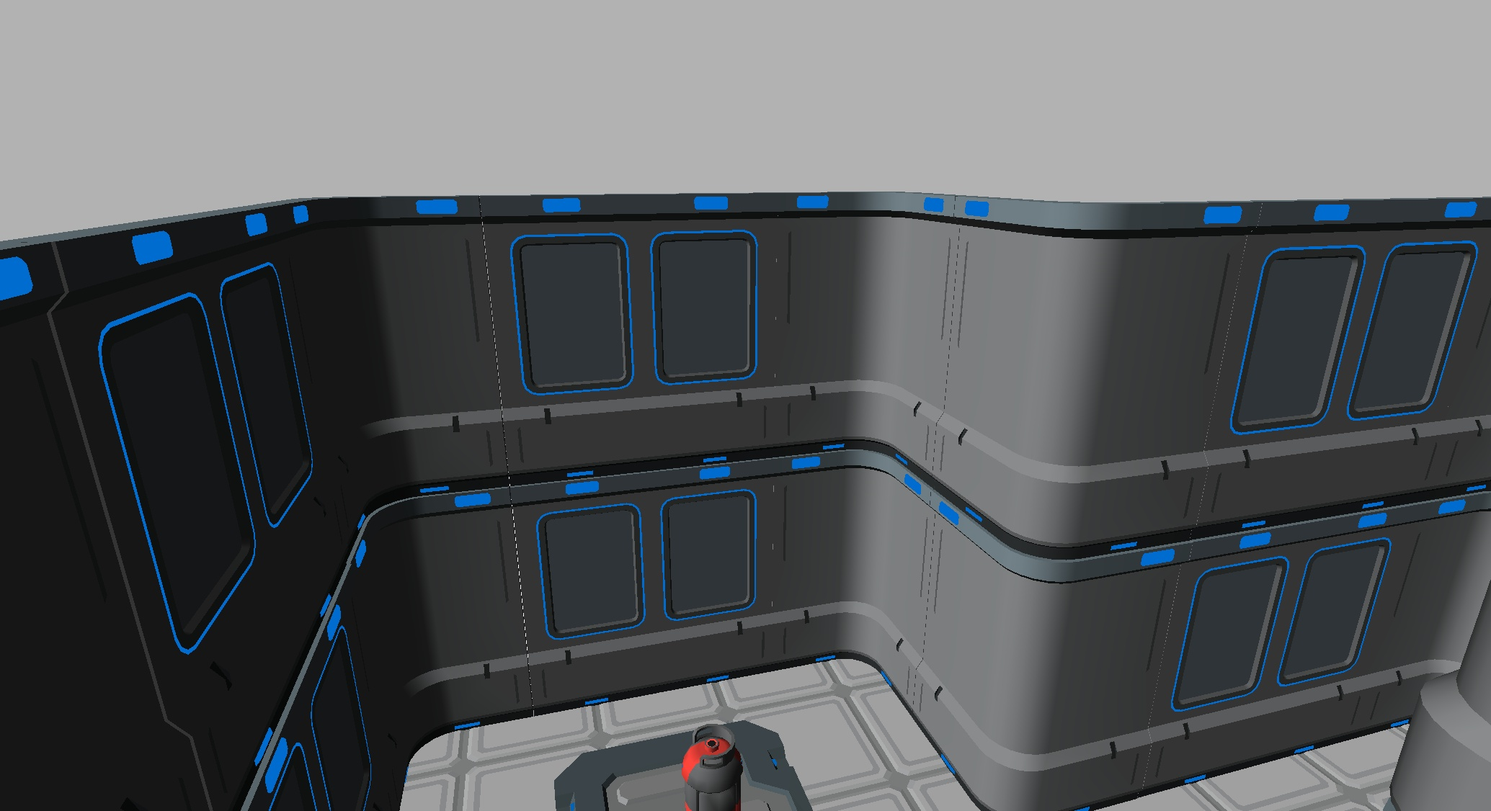red_barrel: (682, 725, 743, 810)
